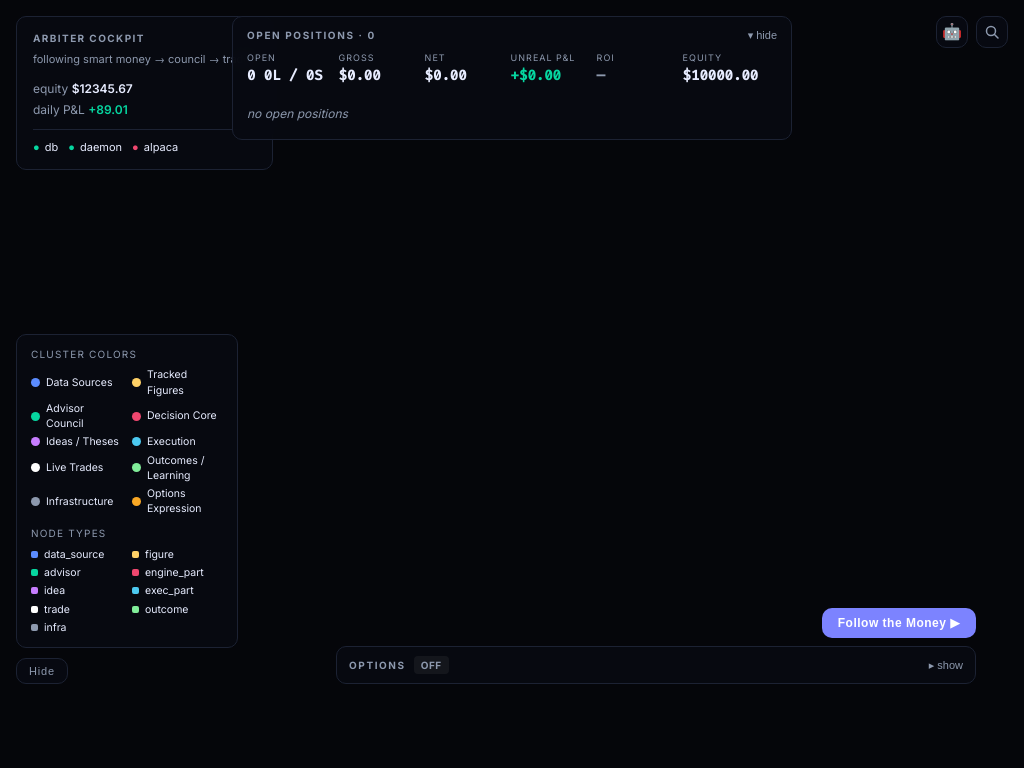
Test: Walkthrough › advances to next step
The width and height of the screenshot is (1024, 768).
Click the button with test id "walkthrough-btn".
click(899, 623)  # box [822,608,976,638]
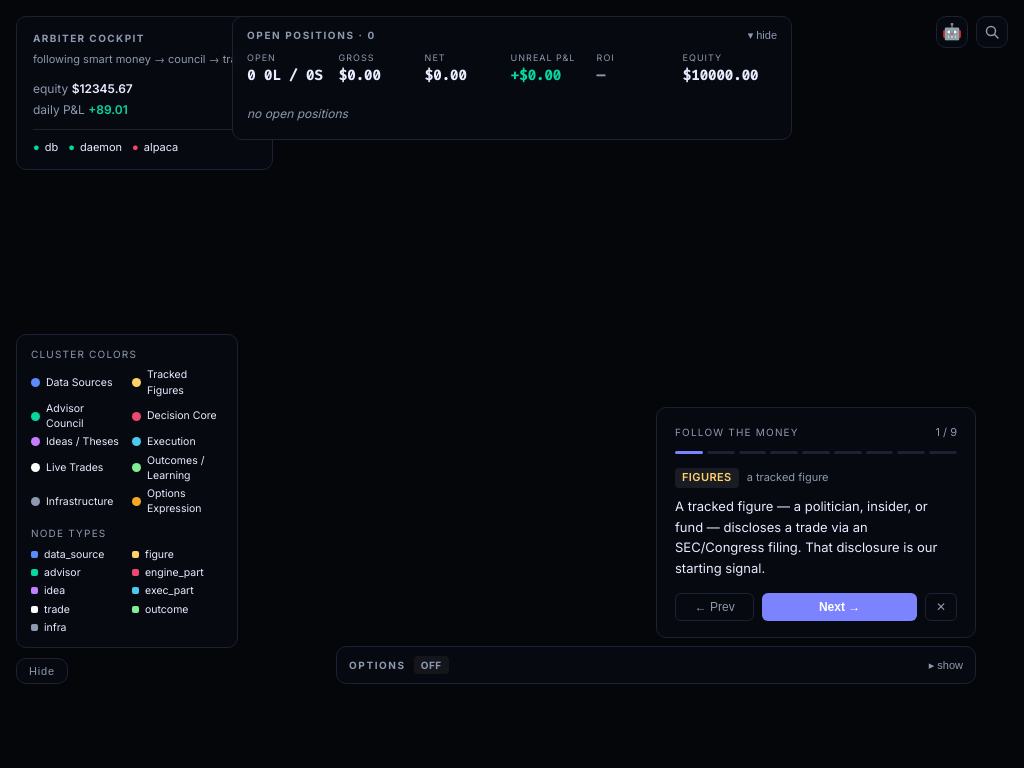
Expected: the element with test id "walkthrough-panel" shows "1 / 9", [656,407,976,638]
Click the button "Next →".
click(840, 607)  # box [762,593,917,621]
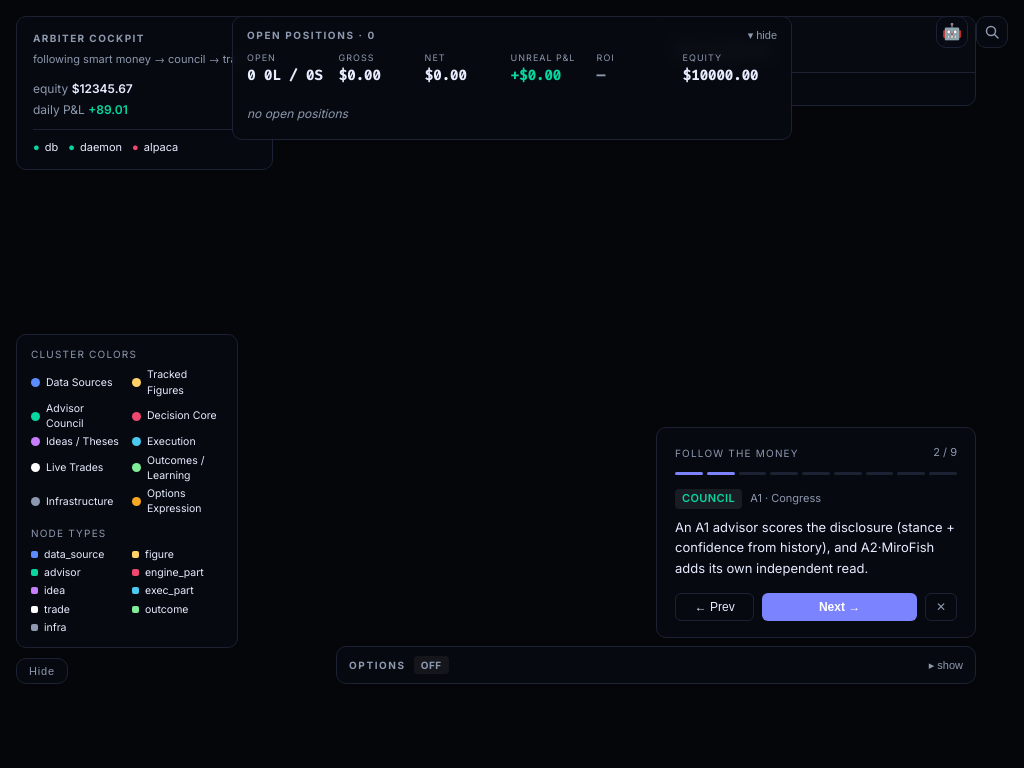
Expected: the element with test id "walkthrough-panel" shows "2 / 9", [656,427,976,638]
